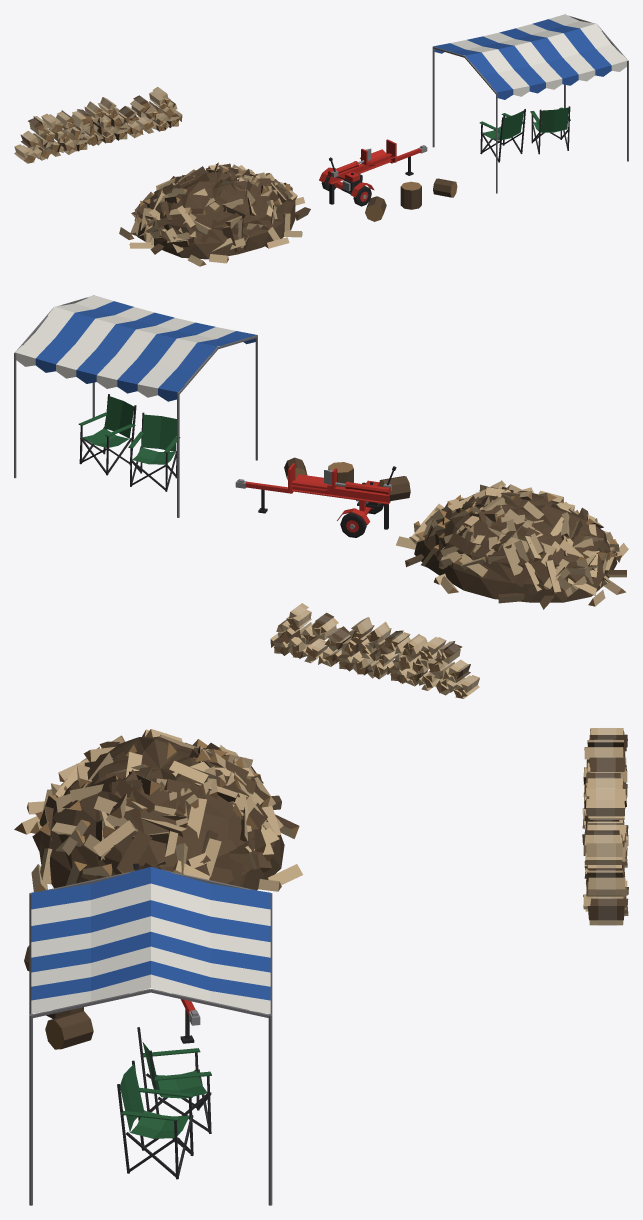
Rendered from splitting-yard.glb.
3 renders of one model, top to bottom at view 1: azimuth 30°, elevation 25°; view 2: azimuth 150°, elevation 25°; view 3: azimuth 270°, elevation 25°, orthographic. The views are drawn at different scales.
Visible parts, largest first — view 1: SplittingYard; view 2: SplittingYard; view 3: SplittingYard.
Boxes of the visible parts, x1,y1,x2,y2 form: SplittingYard: [14, 14, 628, 266]; SplittingYard: [14, 295, 628, 698]; SplittingYard: [14, 728, 628, 1205].
Bounding box in the file's own units: 10.61 × 2.56 × 6.42.
